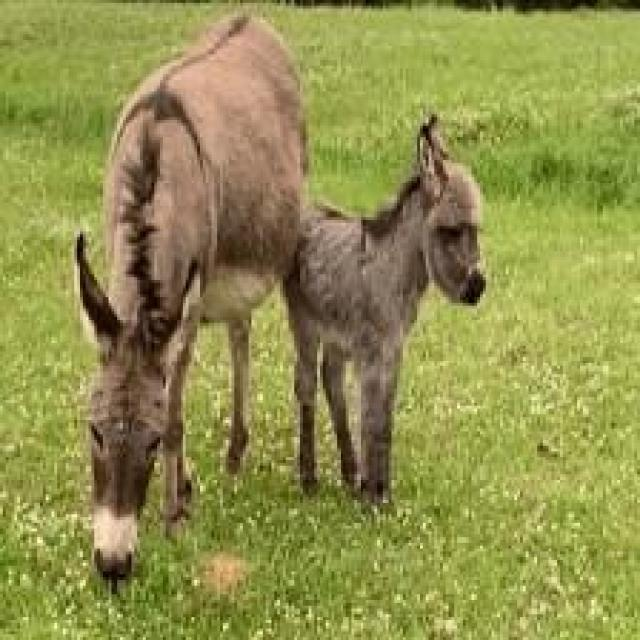Donkey: (72, 9, 308, 594), (280, 111, 486, 508)
